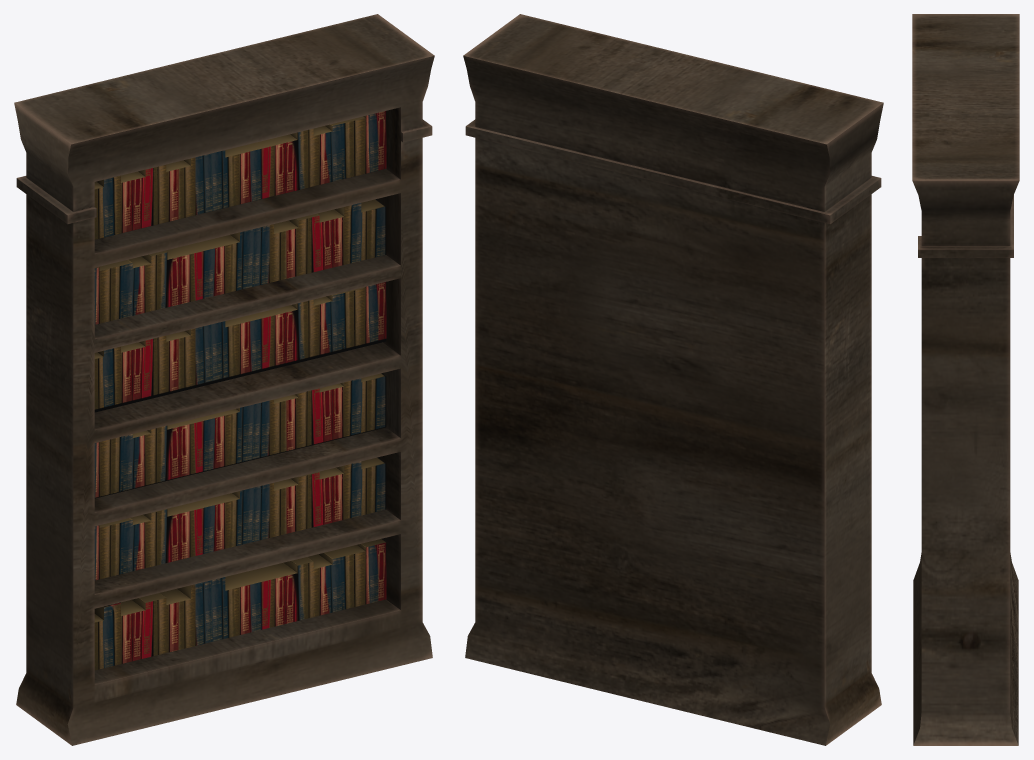
Rendered from Bookshelf.fbx.
3 renders of one model, left to right at view 1: azimuth 30°, elevation 25°; view 2: azimuth 150°, elevation 25°; view 3: azimuth 270°, elevation 25°, orthographic. The views are drawn at different scales.
Parts seen in each view (by area): view 1: bookshelf, Cube.135, Cube.132, Cube.130, Cube.133, Cube.134, Cube.131, Cube.001; view 2: bookshelf; view 3: bookshelf.
Part boxes in pixels (box(x1,y1,x2,y2)): bookshelf: box(14, 14, 434, 745); Cube.135: box(94, 539, 386, 670); Cube.132: box(94, 282, 386, 412); Cube.130: box(94, 199, 386, 324); Cube.133: box(94, 373, 386, 498); Cube.134: box(94, 457, 386, 580); Cube.131: box(94, 111, 386, 239); Cube.001: box(94, 116, 365, 189); bookshelf: box(463, 14, 883, 745); bookshelf: box(912, 14, 1019, 745).
Size of the model in its own units: 167 by 264 by 45.28.
Materials: 2 (2 with a texture image).
